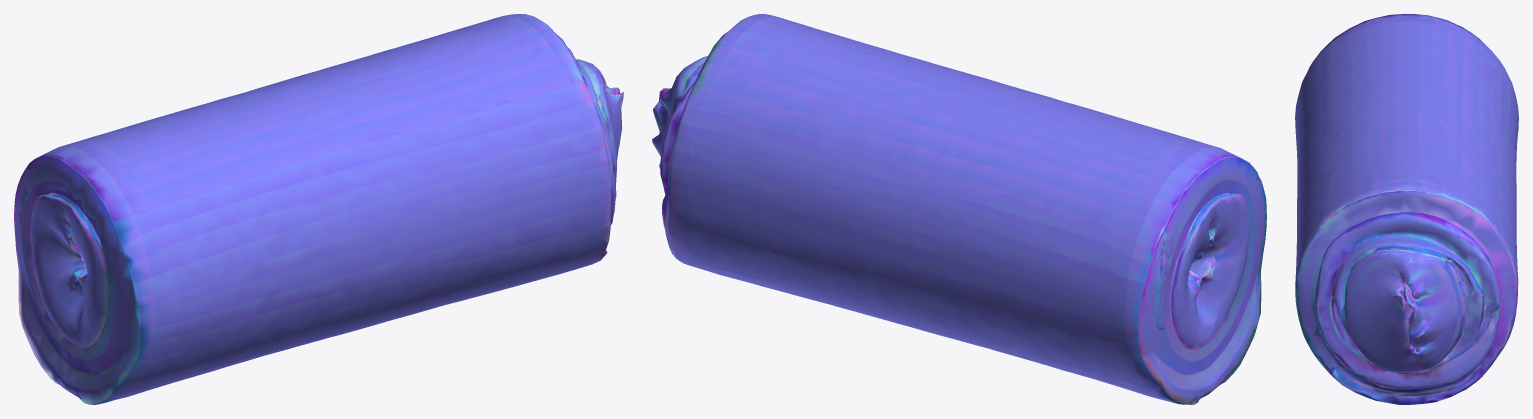
The model's file is Daepa_VARCO.fbx.
3 renders of one model, left to right at view 1: azimuth 30°, elevation 25°; view 2: azimuth 150°, elevation 25°; view 3: azimuth 270°, elevation 25°, orthographic. The views are drawn at different scales.
Parts seen in each view (by area): view 1: Daepa_VARCO; view 2: Daepa_VARCO; view 3: Daepa_VARCO.
Boxes of the visible parts, x1=… form: Daepa_VARCO: x1=14, y1=14, x2=623, y2=404; Daepa_VARCO: x1=652, y1=14, x2=1266, y2=404; Daepa_VARCO: x1=1295, y1=14, x2=1518, y2=404.
Bounding box in the file's own units: 0.06 × 0.0262 × 0.0238.
Materials: 1 (1 with a texture image).
